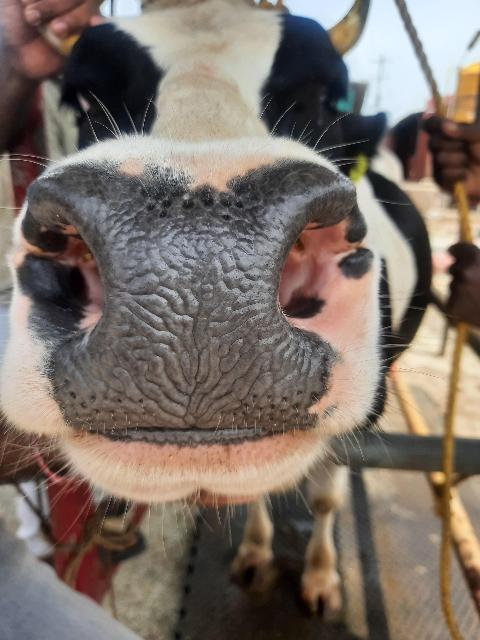Muzzle: (86, 200, 290, 422)
